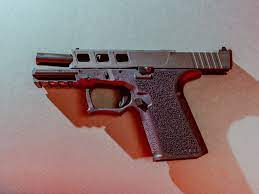gun: (30, 47, 234, 163)
